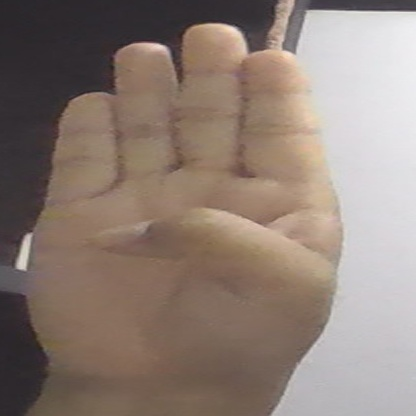B: (24, 23, 338, 401)
